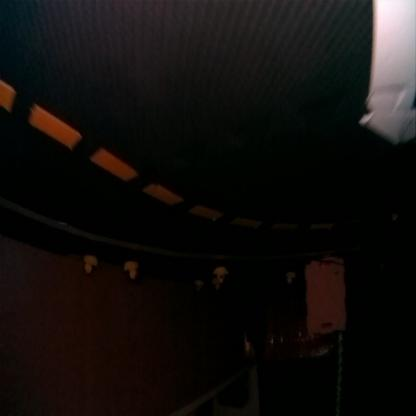Duckie: (82, 257, 96, 275), (213, 269, 227, 283), (124, 264, 136, 278), (193, 280, 202, 291), (211, 278, 219, 290), (285, 274, 293, 284)
